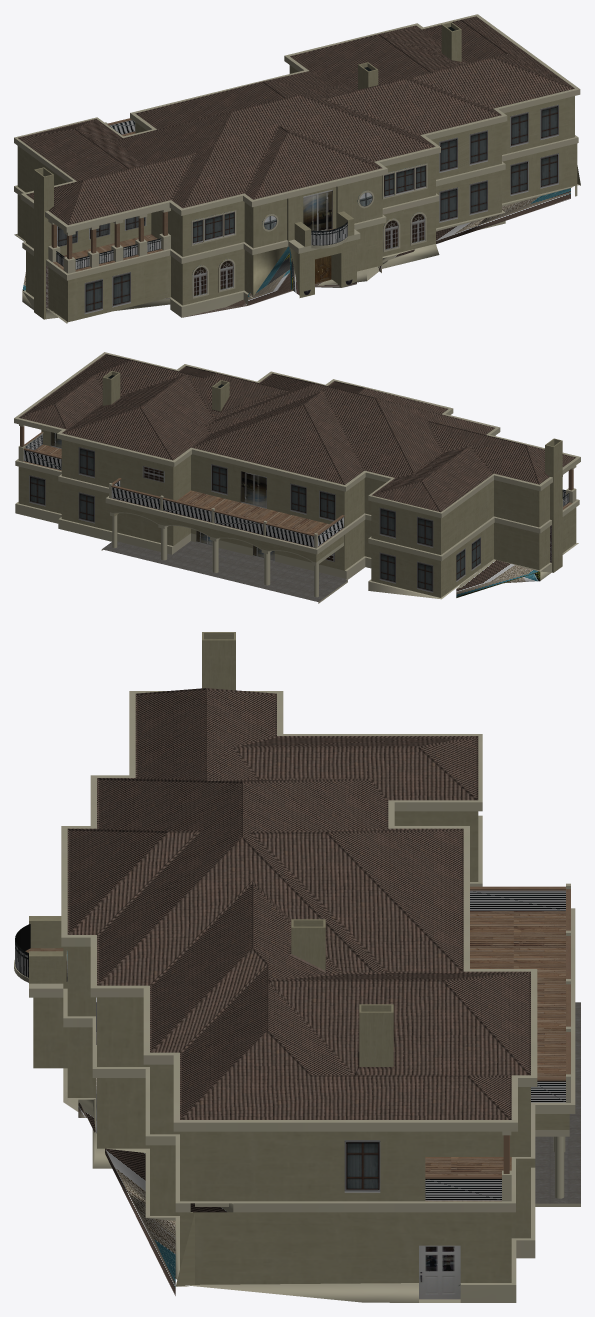
The picture shows the model from 3 angles, top to bottom: view 1: azimuth 30°, elevation 25°; view 2: azimuth 150°, elevation 25°; view 3: azimuth 270°, elevation 25°; orthographic projection. The views are drawn at different scales.
Parts seen in each view (by area): view 1: mansion1; view 2: mansion1; view 3: mansion1.
Boxes of the visible parts, box(x1,y1,x2,y2) form: mansion1: box(14, 14, 580, 323); mansion1: box(14, 352, 580, 603); mansion1: box(14, 632, 580, 1302).
Bounding box in the file's own units: 4105 × 1120 × 2269.
Materials: 1 (1 with a texture image).
